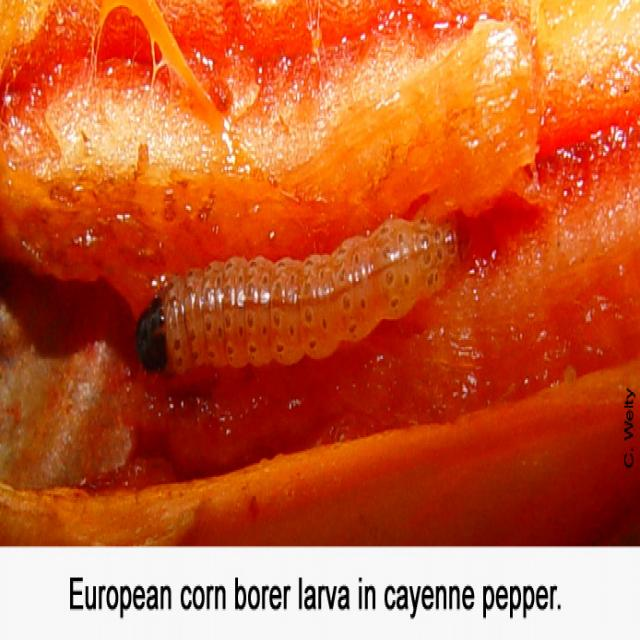cornborer-Larva-: (128, 202, 459, 369)
